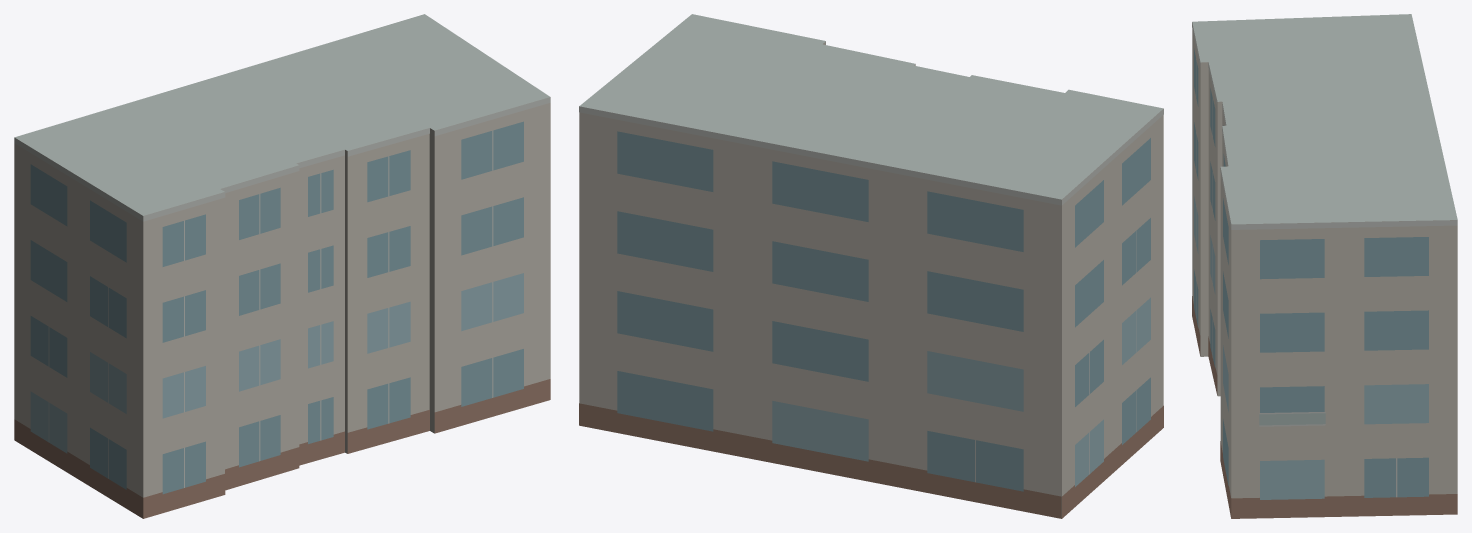
Rendered from survey-upis-32759631.glb.
The picture shows the model from 3 angles, left to right: view 1: azimuth 30°, elevation 25°; view 2: azimuth 150°, elevation 25°; view 3: azimuth 270°, elevation 25°; orthographic projection. The views are drawn at different scales.
Parts seen in each view (by area): view 1: survey-upis-32759631.tmp; view 2: survey-upis-32759631.tmp; view 3: survey-upis-32759631.tmp.
Boxes of the visible parts, x1,y1,x2,y2 form: survey-upis-32759631.tmp: (14, 14, 550, 518); survey-upis-32759631.tmp: (579, 14, 1163, 518); survey-upis-32759631.tmp: (1192, 14, 1457, 518).
Bounding box in the file's own units: 19.78 × 12.9 × 10.55.
